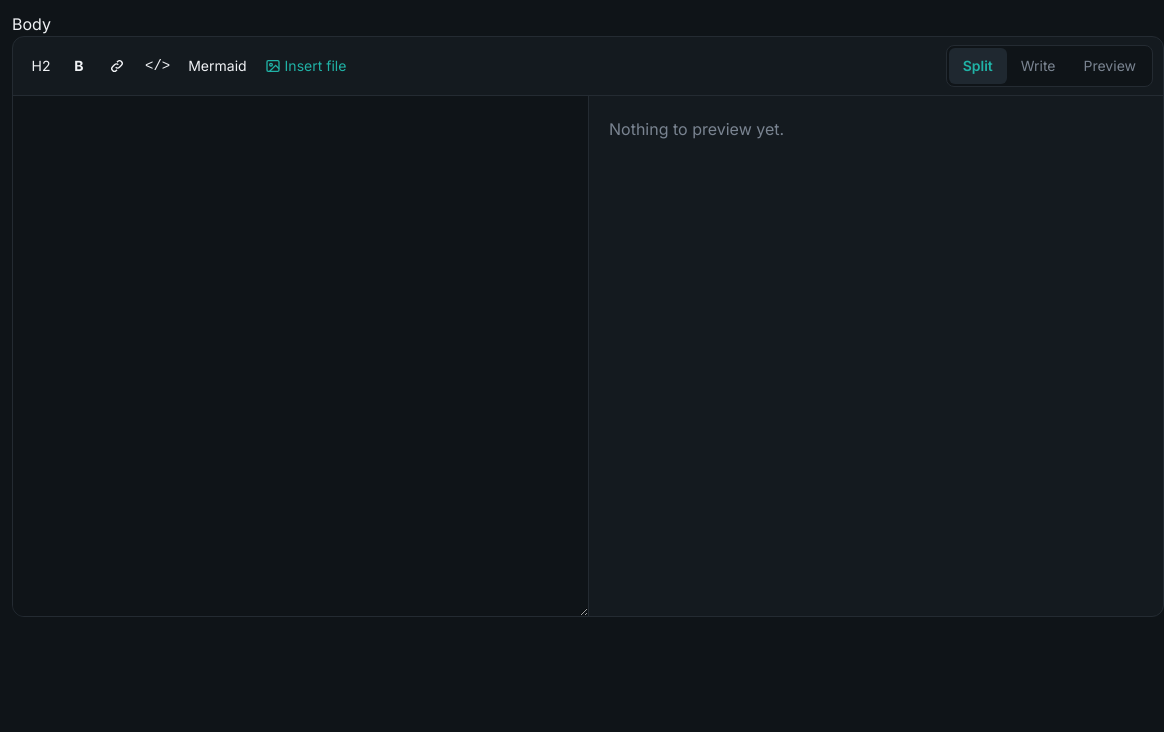
it: MarkdownEditor live preview › renders through the API 400 ms after the last change
Type "## H" into the text box labelled "Body".
click(300, 356); type("## H")  # box left=13, top=96, right=588, bottom=616
Wait 200 ms
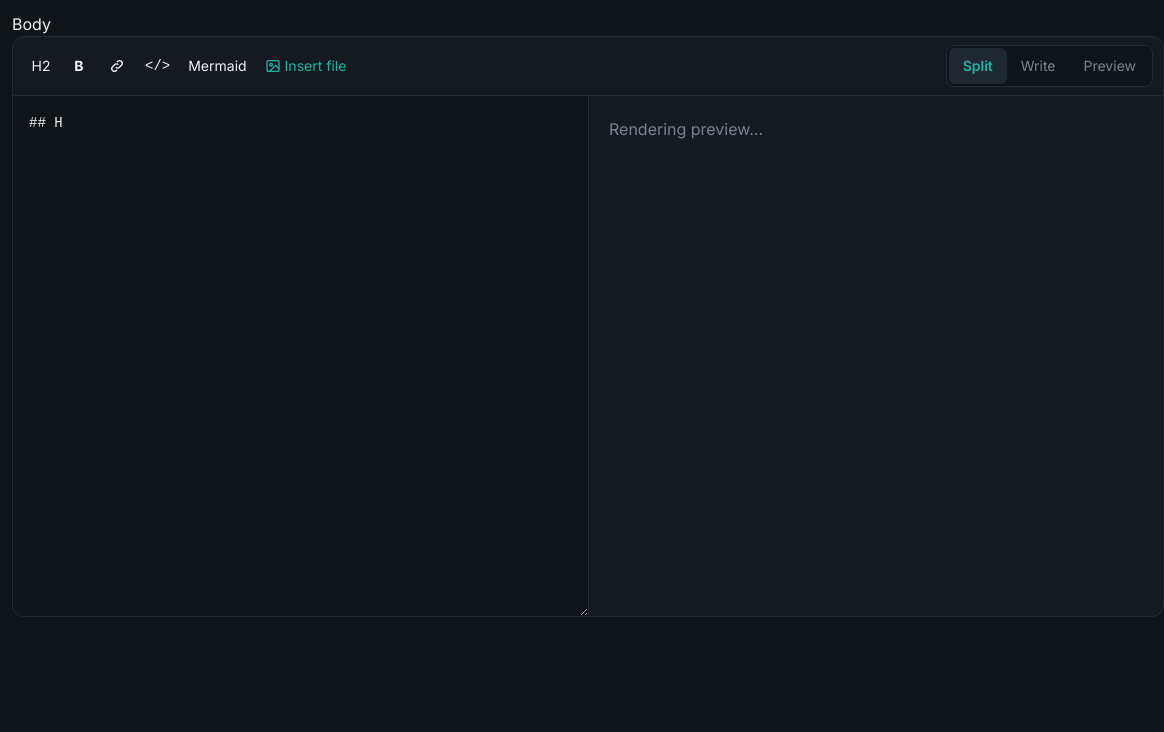
Replace the text in the text box labelled "Body" with "## Hi" at (300, 356), box left=13, top=96, right=588, bottom=616
Wait 400 ms
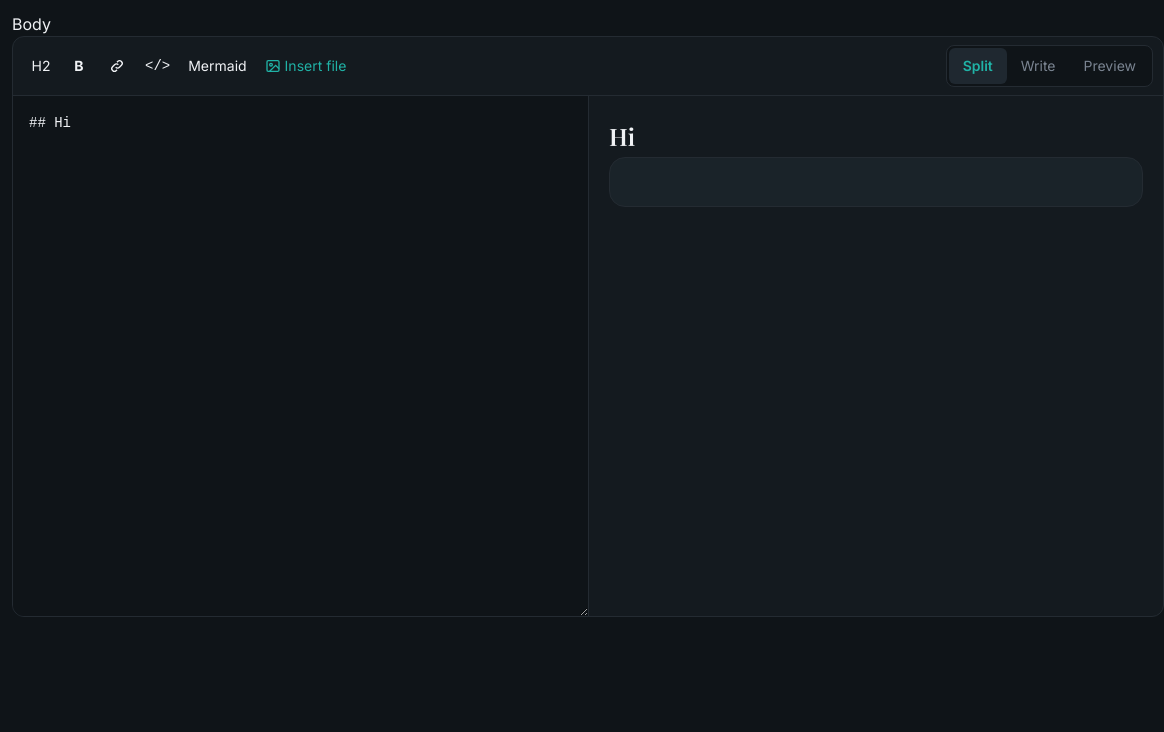
Check: the heading "Hi" is shown, box left=609, top=120, right=635, bottom=152
